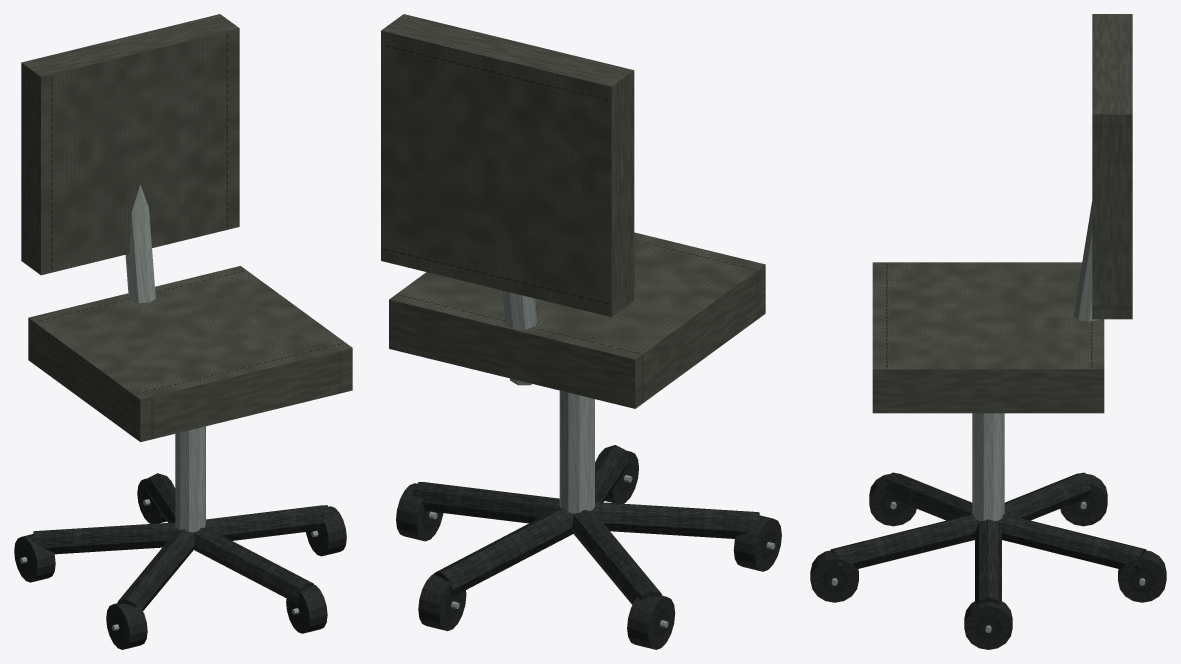
Rendered from OfficeChair.obj.
3 renders of one model, left to right at view 1: azimuth 30°, elevation 25°; view 2: azimuth 150°, elevation 25°; view 3: azimuth 270°, elevation 25°, orthographic. The views are drawn at different scales.
Parts seen in each view (by area): view 1: OfficeChair; view 2: OfficeChair; view 3: OfficeChair.
Boxes of the visible parts, bbox=[...] form: OfficeChair: bbox=[14, 14, 352, 649]; OfficeChair: bbox=[381, 14, 781, 649]; OfficeChair: bbox=[810, 14, 1166, 649].
Bounding box in the file's own units: 0.6027 × 1.05 × 0.6606.
Materials: 3 (3 with a texture image).
